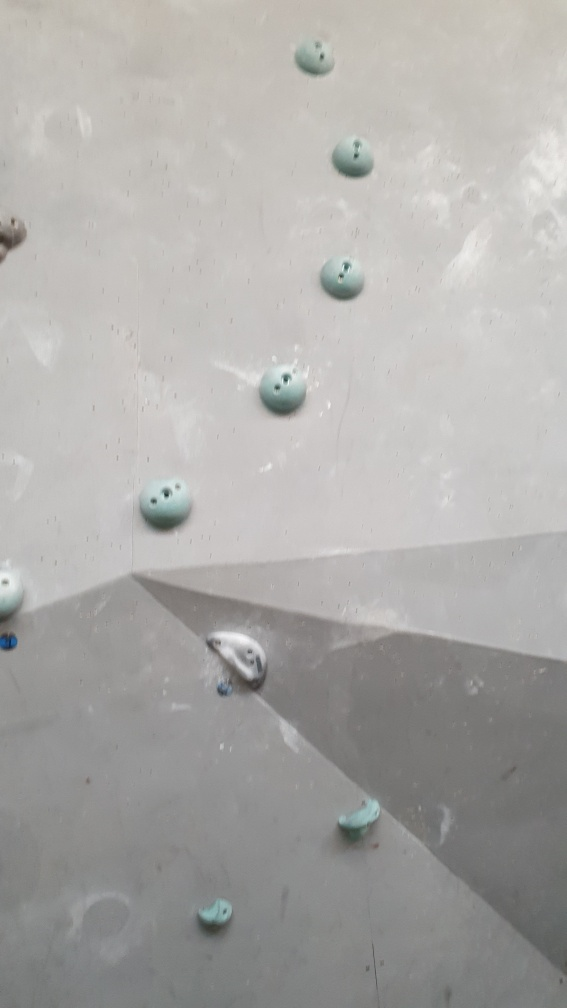Hand Start: (1, 633, 22, 654), (215, 677, 235, 698)
Sloper: (136, 474, 197, 534), (314, 253, 372, 305), (259, 363, 310, 418), (331, 131, 379, 188), (294, 32, 342, 81), (1, 570, 31, 628)
